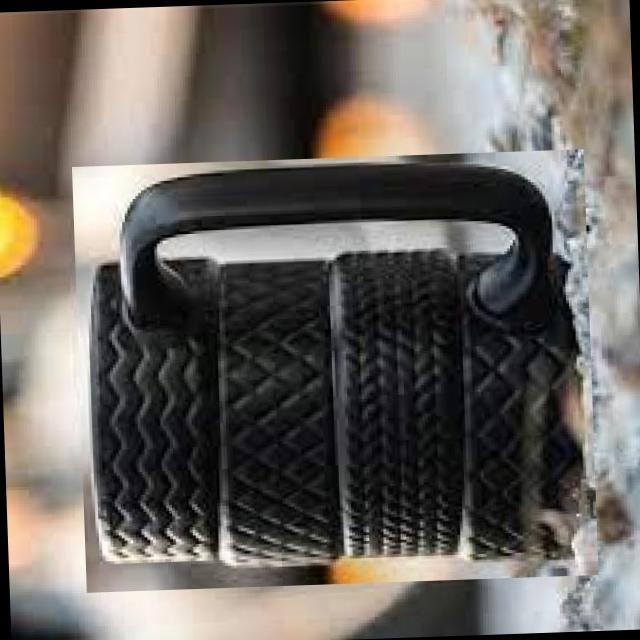Coffee Mug: (82, 158, 570, 564)
